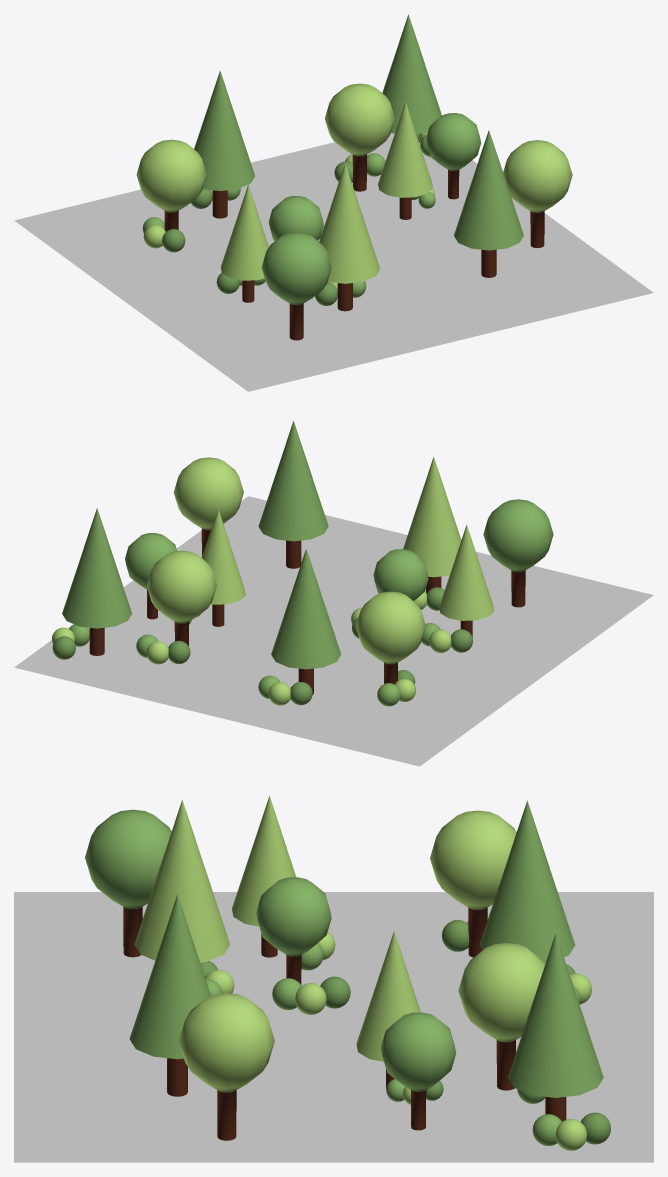
File: level_2_tree.fbx
The picture shows the model from 3 angles, top to bottom: view 1: azimuth 30°, elevation 25°; view 2: azimuth 150°, elevation 25°; view 3: azimuth 270°, elevation 25°; orthographic projection. The views are drawn at different scales.
Parts seen in each view (by area): view 1: Plane, Tree_1_6, Tree_1_3, Tree_1_2, Tree_2_2, Tree_2, Tree_2_6, Tree_2_3, Tree_1, Tree_1_5, Tree_1_4, Tree_2_5 (+1 smaller); view 2: Plane, Tree_1_6, Tree_1, Tree_1_3, Tree_2_2, Tree_2, Tree_2_3, Tree_1_2, Tree_2_6, Tree_1_4, Tree_1_5, Tree_2_4 (+1 smaller); view 3: Plane, Tree_1, Tree_2_6, Tree_1_6, Tree_1_3, Tree_1_2, Tree_2_2, Tree_2, Tree_2_3, Tree_2_5, Tree_2_4, Tree_1_4 (+8 smaller).
Part boxes in pixels (x1,y1,x2,y2): Plane: (14,133,653,391); Tree_1_6: (454,130,523,277); Tree_1_3: (194,70,255,218); Tree_1_2: (319,163,380,311); Tree_2_2: (261,232,331,340); Tree_2: (324,83,394,191); Tree_2_6: (503,140,572,248); Tree_2_3: (136,139,206,231); Tree_1: (382,14,441,133); Tree_1_5: (378,102,432,219); Tree_1_4: (220,184,268,302); Tree_2_5: (426,113,481,199); Plane: (14,496,653,766); Tree_1_6: (258,421,328,568); Tree_1: (62,508,132,655); Tree_1_3: (271,549,341,695); Tree_2_2: (483,499,553,607); Tree_2: (146,550,216,645); Tree_2_3: (356,591,425,684); Tree_1_2: (403,457,461,593); Tree_2_6: (173,457,243,556); Tree_1_4: (439,524,494,637); Tree_1_5: (202,508,245,626); Tree_2_4: (373,549,428,600); Plane: (14,892,653,1162); Tree_1: (508,933,603,1121); Tree_2_6: (179,993,274,1140); Tree_1_6: (129,894,210,1096); Tree_1_3: (479,800,575,963); Tree_1_2: (134,800,230,962); Tree_2_2: (85,809,171,957); Tree_2: (458,943,544,1090); Tree_2_3: (430,810,516,957); Tree_2_5: (380,1012,456,1130); Tree_2_4: (256,877,331,984); Tree_1_4: (232,796,295,957).
Bounding box in the file's own units: 20 × 6.85 × 20.
